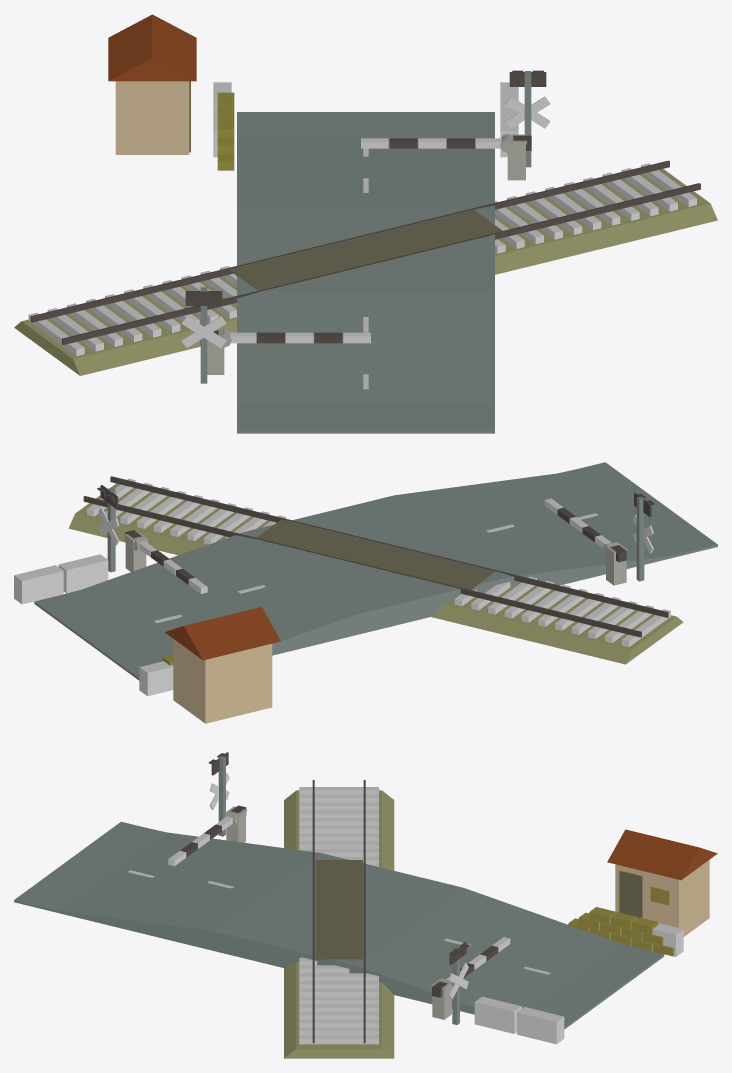
Rendered from SM_PasoNivel_60E_v3_Militar_LOD0.fbx.
3 views of the same model, one above another, from view 1: azimuth 30°, elevation 25°; view 2: azimuth 150°, elevation 25°; view 3: azimuth 270°, elevation 25° (orthographic). The views are drawn at different scales.
Parts seen in each view (by area): view 1: SM_paso_nivel_kit_v28_LOD0, Barrera_1, Barrera_2; view 2: SM_paso_nivel_kit_v28_LOD0, Barrera_1, Barrera_2; view 3: SM_paso_nivel_kit_v28_LOD0, Barrera_2, Barrera_1.
Boxes of the visible parts, x1,y1,x2,y2 form: SM_paso_nivel_kit_v28_LOD0: (14,14,717,433); Barrera_1: (361,133,531,152); Barrera_2: (200,328,370,347); SM_paso_nivel_kit_v28_LOD0: (14,462,717,723); Barrera_1: (125,530,207,593); Barrera_2: (544,498,626,562); SM_paso_nivel_kit_v28_LOD0: (14,752,717,1058); Barrera_2: (168,805,246,866); Barrera_1: (432,937,510,997).
Bounding box in the file's own units: 20 × 3 × 23.01.
